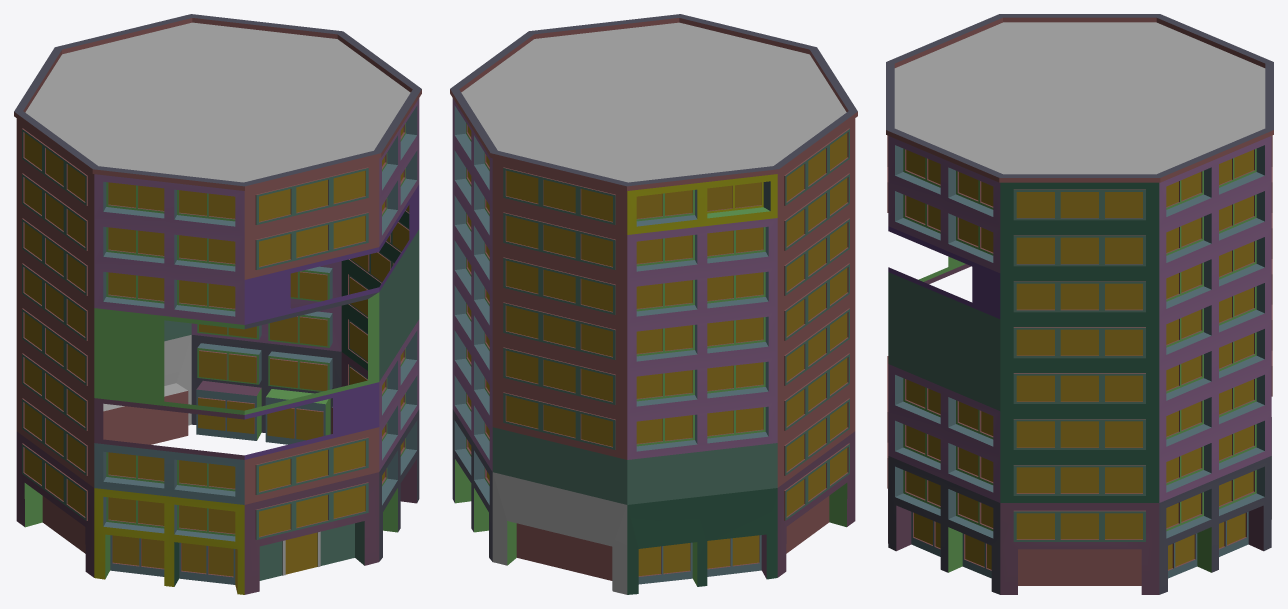
The model's file is SM_PlazaBuilding.fbx.
3 renders of one model, left to right at view 1: azimuth 30°, elevation 25°; view 2: azimuth 150°, elevation 25°; view 3: azimuth 270°, elevation 25°, orthographic. The views are drawn at different scales.
Parts seen in each view (by area): view 1: SM_PlazaBuilding; view 2: SM_PlazaBuilding; view 3: SM_PlazaBuilding.
Part boxes in pixels (box(x1,y1,x2,y2)): SM_PlazaBuilding: box(14, 14, 421, 594); SM_PlazaBuilding: box(450, 14, 857, 594); SM_PlazaBuilding: box(886, 14, 1273, 594).
Bounding box in the file's own units: 2127 × 2529 × 2127.
